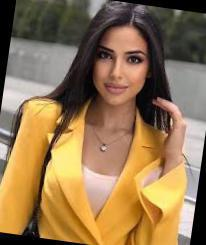Sober: (95, 24, 146, 101)
